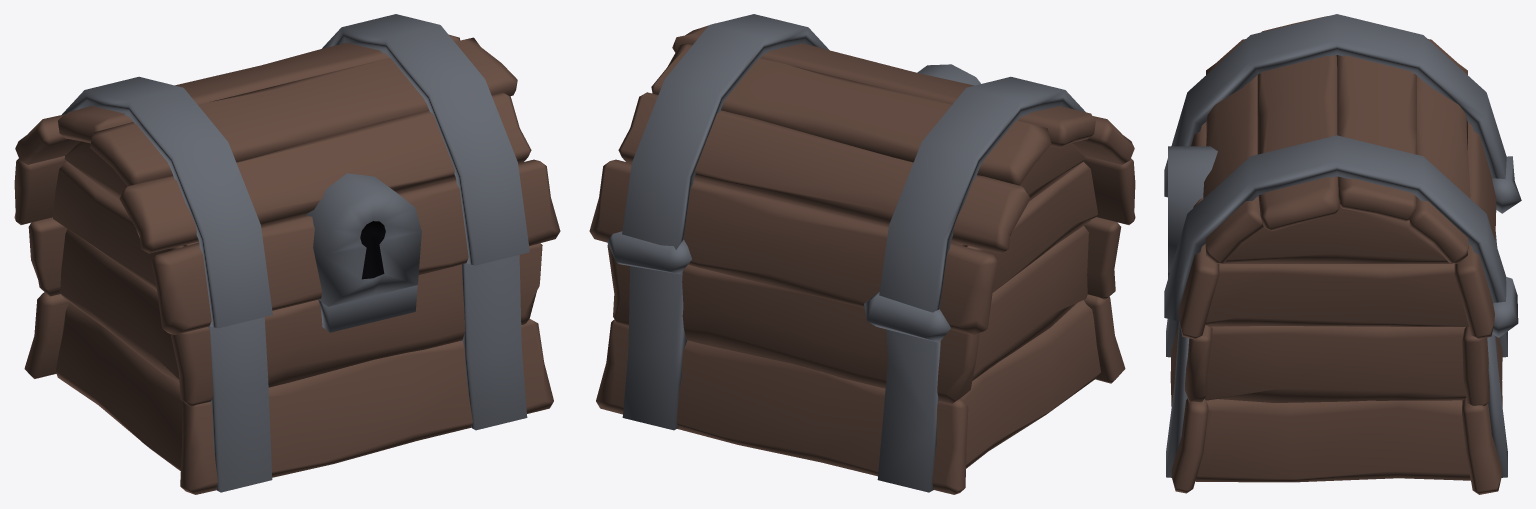
The model's file is chest_01.fbx.
The picture shows the model from 3 angles, left to right: view 1: azimuth 30°, elevation 25°; view 2: azimuth 150°, elevation 25°; view 3: azimuth 270°, elevation 25°; orthographic projection. The views are drawn at different scales.
Visible parts, largest first — view 1: chest_01_top, chest_01_bottom; view 2: chest_01_top, chest_01_bottom; view 3: chest_01_top, chest_01_bottom.
Part boxes in pixels (box(x1,y1,x2,y2)): chest_01_top: box(14, 14, 560, 334); chest_01_bottom: box(24, 217, 553, 494); chest_01_top: box(589, 14, 1135, 342); chest_01_bottom: box(596, 217, 1125, 494); chest_01_top: box(1164, 14, 1521, 339); chest_01_bottom: box(1166, 232, 1507, 494).
Size of the model in its own units: 100 by 79.82 by 80.17.
